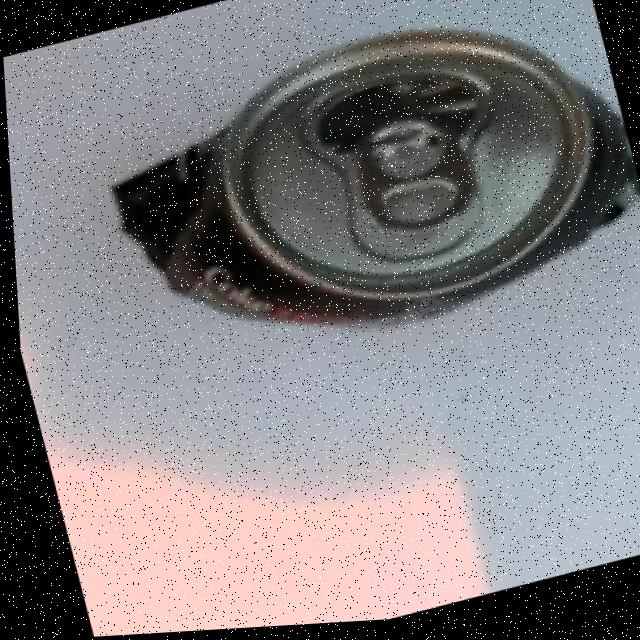metal: (67, 0, 640, 411)
